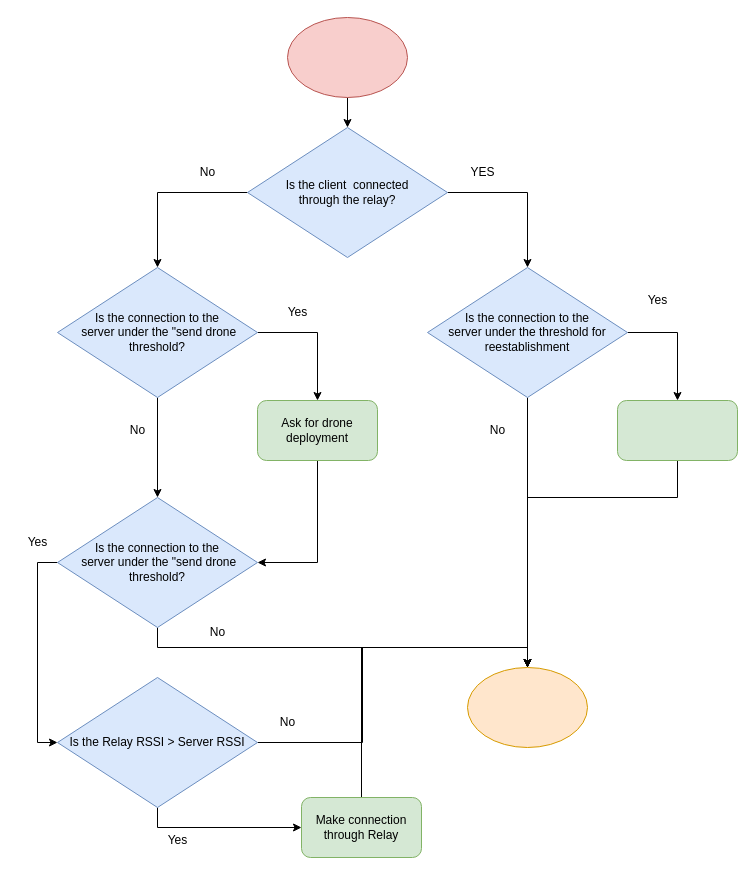
Some shapes in this 755 by 875 pixel diagram are drawn without their labels. Here are the shapes that lost their labels. From the top down, the centre of each, then its label:
At (347,57): "Start".
At (677,430): "Make connection directly to server".
At (527,707): "End".
